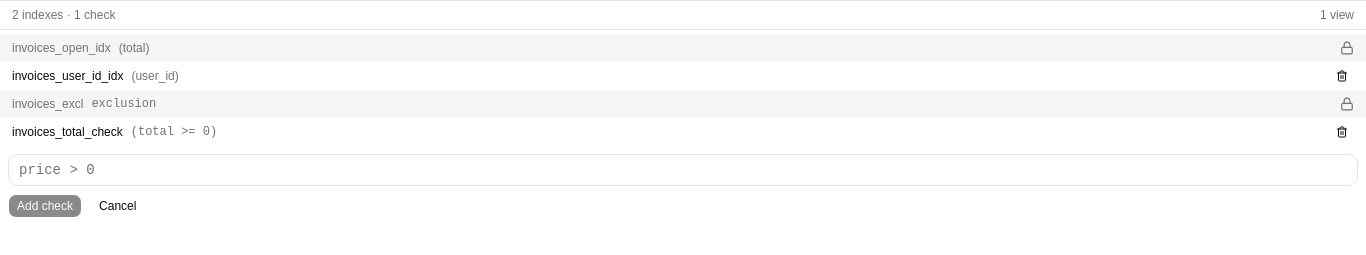
adding a check › a check Postgres rejects shows its message and can't be added
This screenshot has width=1366, height=255.
In the field named "Check expression": (683, 170) [8,154,1358,186], type "nope > 0"
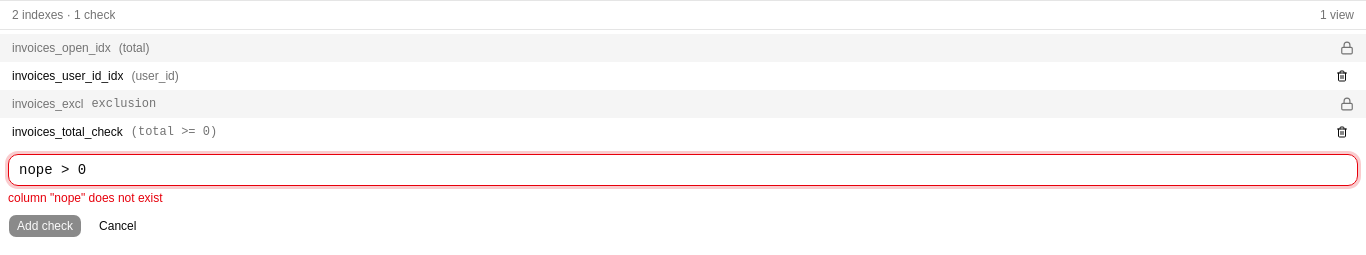
Expected: the button "Add check" is disabled, [8,214,82,238]
Expected: the message shows "does not exist", [8,191,163,205]
